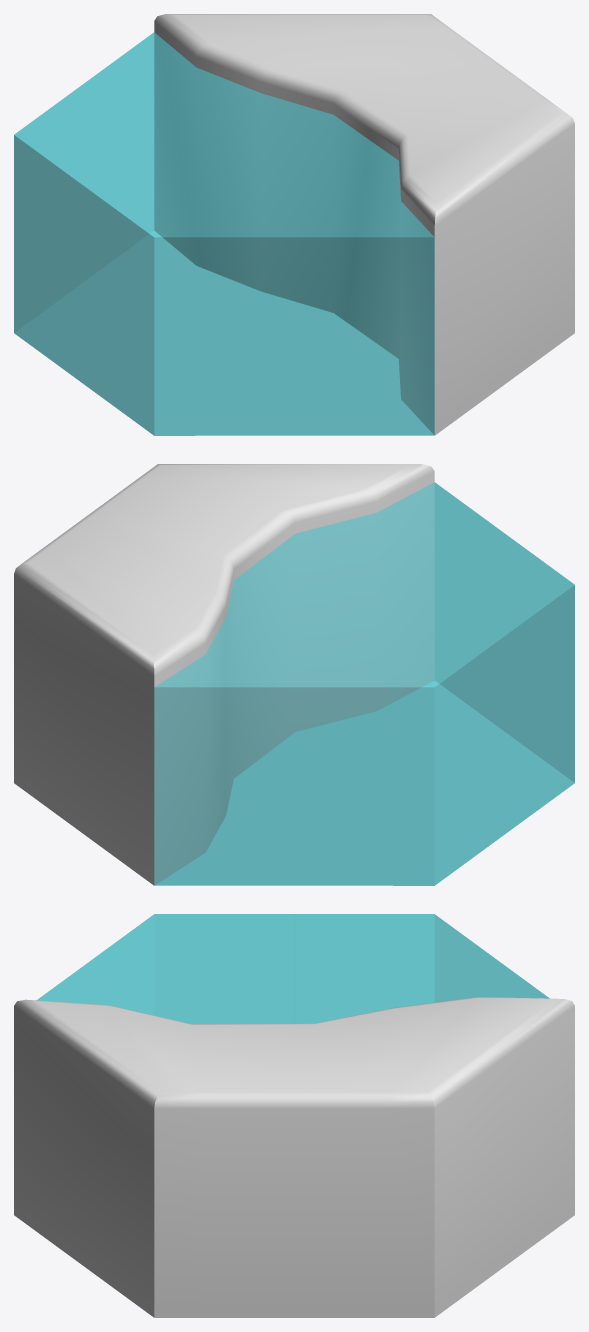
File: hex_snow_waterC.fbx
The picture shows the model from 3 angles, top to bottom: view 1: azimuth 30°, elevation 25°; view 2: azimuth 150°, elevation 25°; view 3: azimuth 270°, elevation 25°; orthographic projection.
Parts seen in each view (by area): view 1: hex_snow_waterC; view 2: hex_snow_waterC; view 3: hex_snow_waterC.
Part boxes in pixels (x1,y1,x2,y2): hex_snow_waterC: (14,14,574,435); hex_snow_waterC: (14,464,574,885); hex_snow_waterC: (14,914,574,1317).
Size of the model in its own units: 2 by 1 by 2.31.
